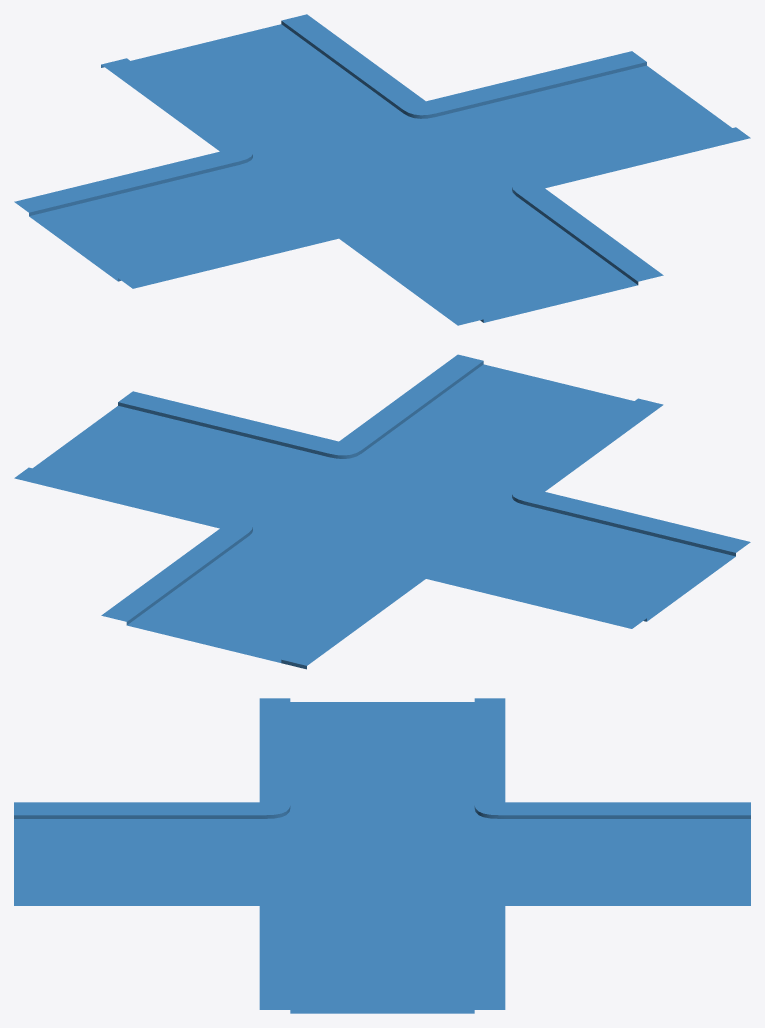
File: Road_4Way.fbx
3 renders of one model, top to bottom at view 1: azimuth 30°, elevation 25°; view 2: azimuth 150°, elevation 25°; view 3: azimuth 270°, elevation 25°, orthographic. The views are drawn at different scales.
Parts seen in each view (by area): view 1: Road_4Way; view 2: Road_4Way; view 3: Road_4Way.
Part boxes in pixels (<box>): Road_4Way: <box>14,14,750,325</box>; Road_4Way: <box>14,354,750,669</box>; Road_4Way: <box>14,698,750,1013</box>.
Size of the model in its own units: 2700 by 15 by 2700.
